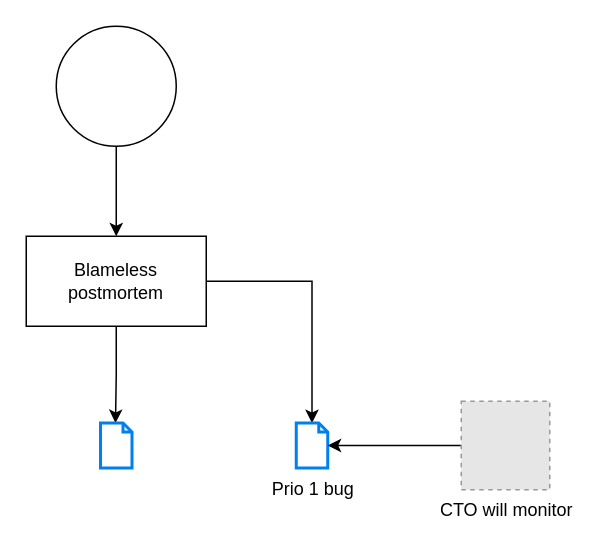
The diagram is 597 pixels wide and 548 high, and some of its shapes have lost their labels. Grey dashed boxes stand in for pictures. Here are the shapes that lost their labels. From the top down, the box of each, then its label:
(55, 25, 176, 146): Incident resolved
(98, 421, 133, 469): Incident document
